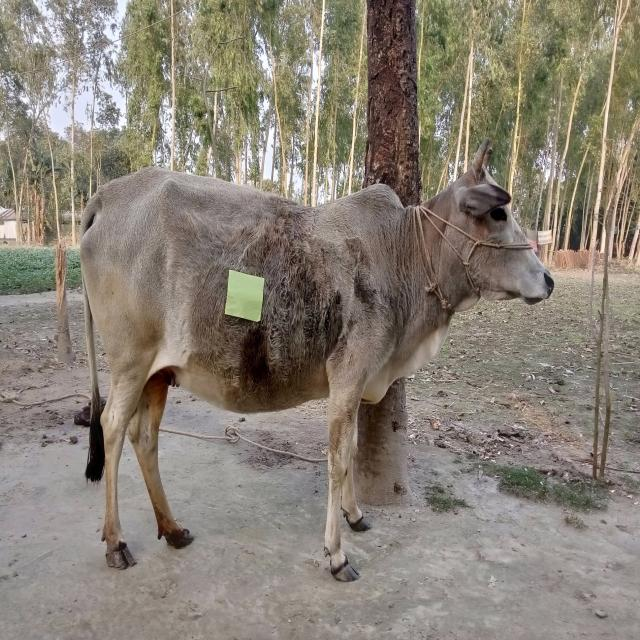badan_sapi: (105, 183, 362, 402)
sapi: (72, 134, 560, 590)
